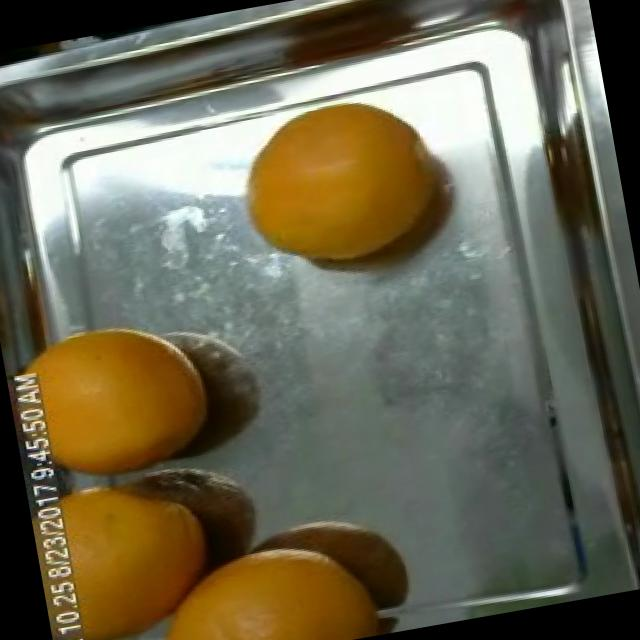Fruit: (6, 290, 234, 496), (31, 449, 254, 640)
